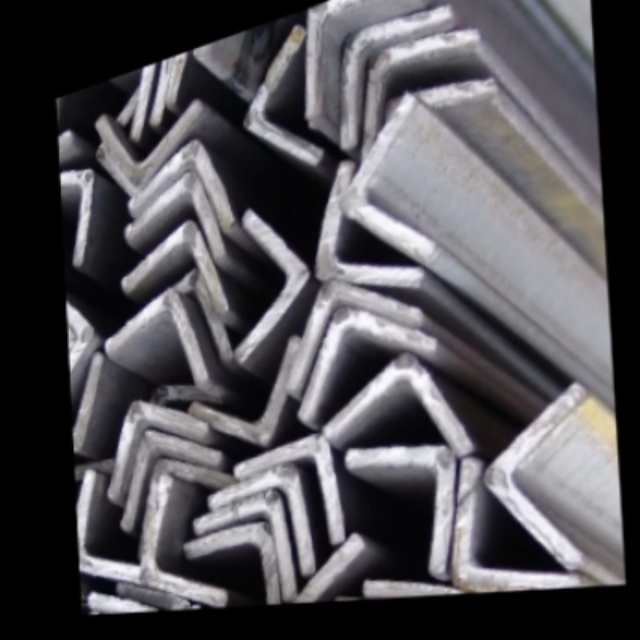Angle: (299, 299, 436, 414), (498, 395, 593, 560), (340, 8, 448, 138), (359, 30, 472, 150), (353, 439, 453, 570), (347, 102, 426, 264), (322, 155, 414, 292), (289, 278, 415, 376), (333, 358, 458, 456), (452, 474, 554, 591), (306, 0, 411, 107), (236, 209, 310, 347), (99, 88, 201, 184), (126, 219, 221, 319), (137, 140, 227, 241), (213, 475, 307, 570), (127, 171, 217, 269), (244, 442, 335, 536), (144, 489, 216, 599), (254, 31, 312, 166), (204, 348, 293, 434), (110, 401, 201, 485), (107, 294, 197, 377), (126, 429, 219, 508), (206, 506, 289, 591), (190, 532, 276, 609)
